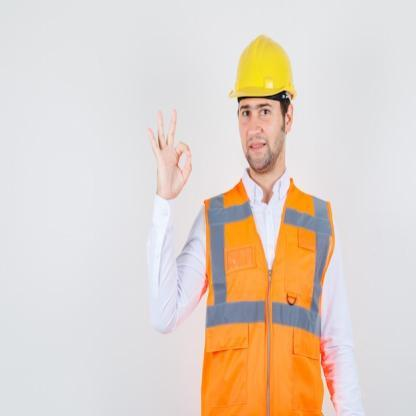ok: (144, 106, 194, 205)
